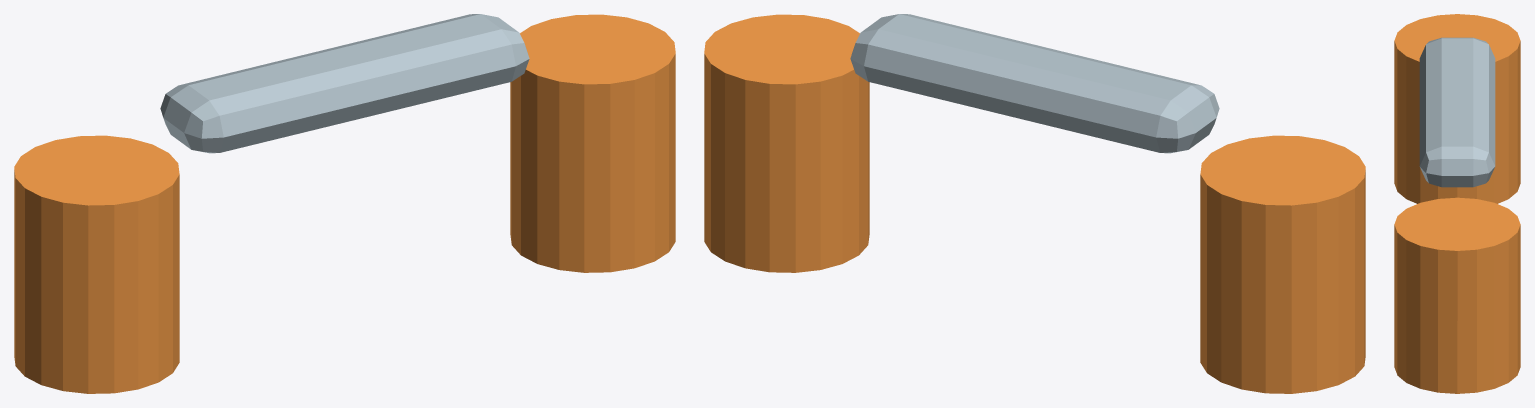
The model's file is PR3D_Rail_Support.fbx.
3 views of the same model, side by side, from view 1: azimuth 30°, elevation 25°; view 2: azimuth 150°, elevation 25°; view 3: azimuth 270°, elevation 25° (orthographic). The views are drawn at different scales.
Parts seen in each view (by area): view 1: Visual_SupportFoot_-1, Visual_SupportFoot_+1, Visual_SupportCrossbar; view 2: Visual_SupportFoot_-1, Visual_SupportFoot_+1, Visual_SupportCrossbar; view 3: Visual_SupportFoot_+1, Visual_SupportFoot_-1, Visual_SupportCrossbar.
Part boxes in pixels (box(x1,y1,x2,y2)): Visual_SupportFoot_-1: box(14, 135, 179, 393); Visual_SupportFoot_+1: box(510, 14, 675, 272); Visual_SupportCrossbar: box(160, 14, 529, 153); Visual_SupportFoot_-1: box(1200, 135, 1365, 393); Visual_SupportFoot_+1: box(704, 14, 869, 272); Visual_SupportCrossbar: box(850, 14, 1219, 153); Visual_SupportFoot_+1: box(1394, 197, 1520, 393); Visual_SupportFoot_-1: box(1394, 14, 1520, 203); Visual_SupportCrossbar: box(1419, 37, 1495, 187).
Size of the model in its own units: 0.8888 by 0.32 by 0.2.
